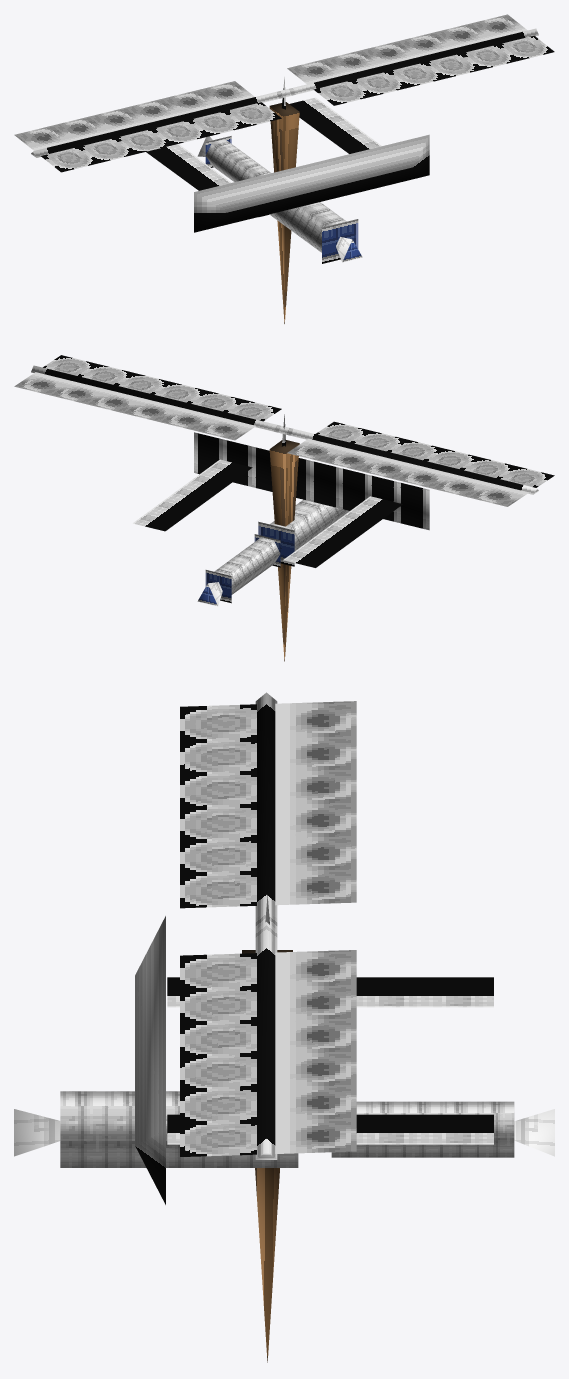
3 views of the same model, one above another, from view 1: azimuth 30°, elevation 25°; view 2: azimuth 150°, elevation 25°; view 3: azimuth 270°, elevation 25° (orthographic). The views are drawn at different scales.
Visible parts, largest first — view 1: 3280IMIG05_06; view 2: 3280IMIG05_06; view 3: 3280IMIG05_06.
Boxes of the visible parts, <box> form: 3280IMIG05_06: <box>14,14,554,323</box>; 3280IMIG05_06: <box>14,355,554,661</box>; 3280IMIG05_06: <box>14,692,554,1362</box>.
Bounding box in the file's own units: 1.99 × 0.9536 × 0.9922.
Materials: 4 (4 with a texture image).
